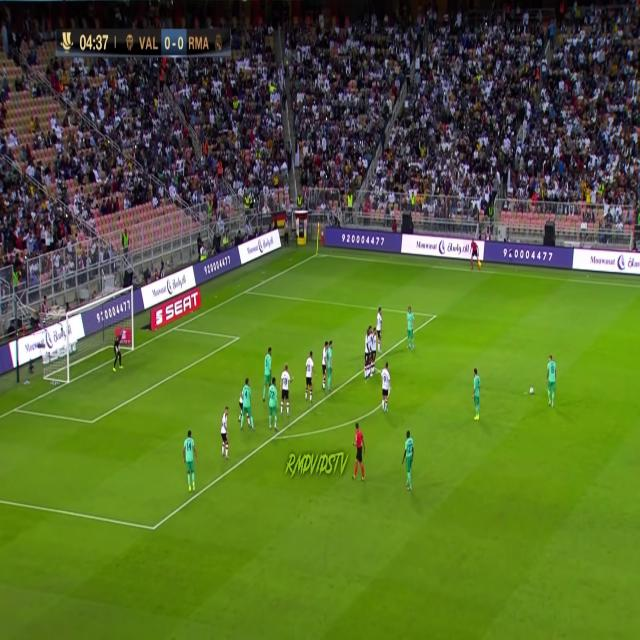Ball: (526, 388, 534, 396)
GoalKeeper: (114, 331, 128, 372)
TEAM 1: (365, 328, 379, 375), (220, 409, 232, 462), (381, 364, 393, 416), (304, 353, 316, 400), (280, 366, 290, 408), (376, 304, 383, 351), (322, 339, 328, 392), (238, 384, 243, 418)
TEAM 2: (400, 430, 416, 494), (184, 428, 198, 491), (545, 353, 558, 409), (470, 368, 482, 422), (242, 380, 254, 432), (266, 384, 279, 431), (404, 305, 416, 352), (264, 348, 273, 403), (327, 342, 335, 391)
